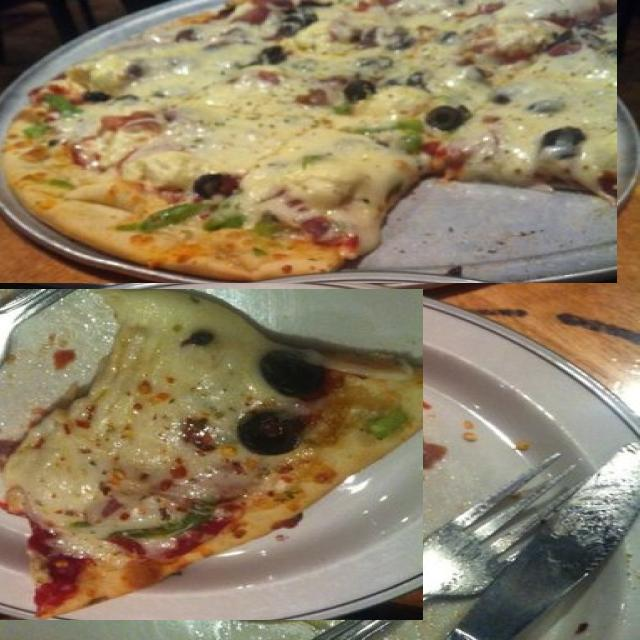olive: (101, 513, 163, 563), (121, 457, 190, 497), (34, 126, 77, 160), (149, 106, 191, 129), (382, 174, 422, 197), (240, 82, 278, 102), (308, 14, 336, 32), (334, 46, 358, 66), (510, 94, 537, 105)
pizza: (0, 0, 617, 283), (0, 289, 423, 620)
